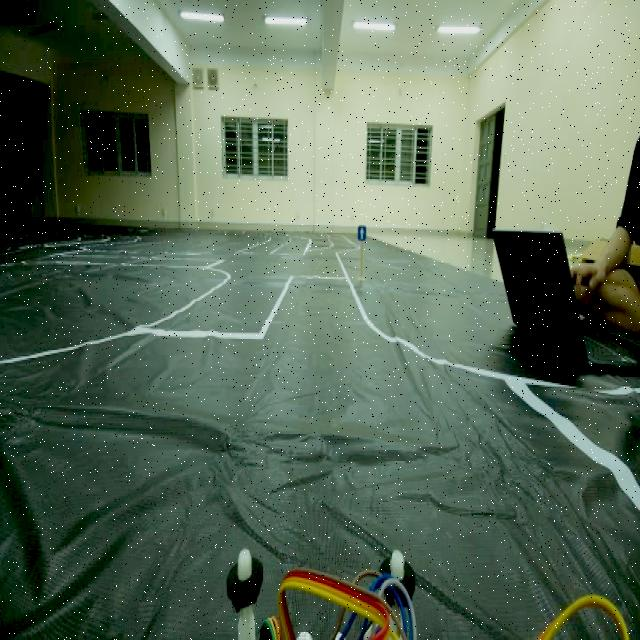onewayroad: (354, 221, 370, 242)
